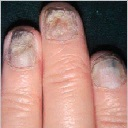Nail Fungal Infection: (44, 10, 80, 38), (91, 55, 121, 84), (8, 31, 38, 54)
